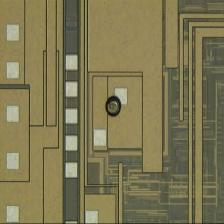PARTICLE: (104, 95, 124, 121)
